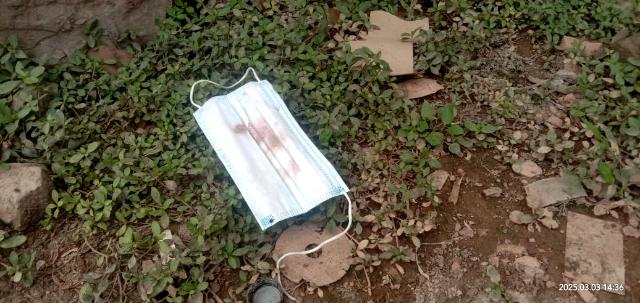mask: (179, 62, 348, 246)
